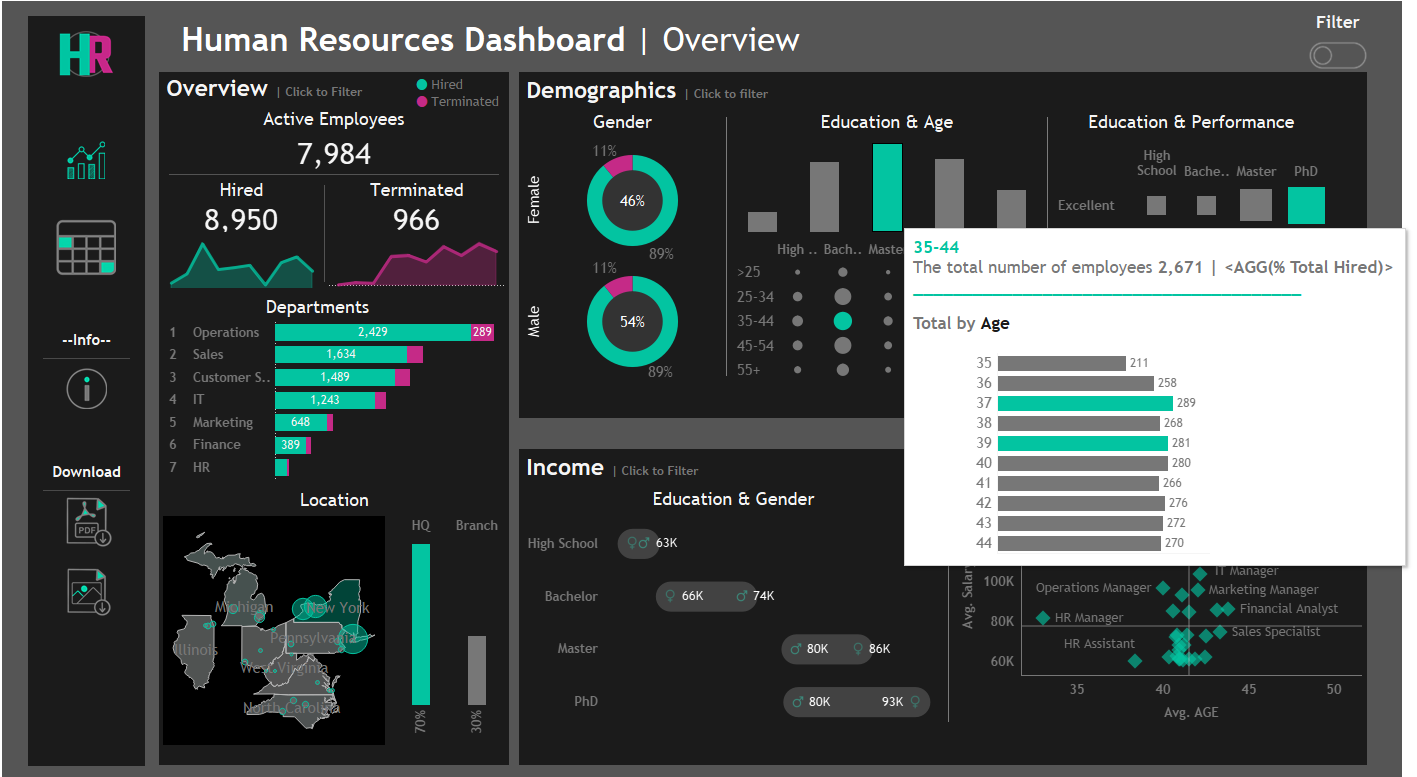

What the dashboard file says about the page in this screenshot:
{"tool":"tableau","page":{"name":"HR | Summary","canvas":[1400,800],"ordinal":1},"visuals":[{"type":"blank","box":[142,0,1257,266]},{"type":"text","box":[1286,6,100,30]},{"type":"text","box":[150,7,677.5,64]},{"type":"blank","box":[827.5,7,537.5,64]},{"type":"filter","title":"Education VS Gender Level","param":"[federated.1b5o2vp1k13vo616yvkzb0z88h2i].[none:Gender:nk]","box":[808,10,124,54]},{"type":"filter","title":"Education VS Gender Level","param":"[federated.1b5o2vp1k13vo616yvkzb0z88h2i].[none:Calculation_1937110847479668753:n","box":[932,10,124,54]},{"type":"filter","title":"Education VS Gender Level","param":"[federated.1b5o2vp1k13vo616yvkzb0z88h2i].[none:Calculation_1937110846422126599:n","box":[1056,10,123,54]},{"type":"filter","title":"Education VS Gender Level","param":"[federated.1b5o2vp1k13vo616yvkzb0z88h2i].[yr:Hiredate:ok]","box":[1179,10,123,54]},{"type":"image","param":"Image/Logo.png","box":[36,25,97,55]},{"type":"dashboard-object","box":[1306,35,59,39]},{"type":"text","box":[157,71,350,32]},{"type":"text","box":[517,71,848,35]},{"type":"text","box":[411,76,89,36]},{"type":"blank","box":[36,80,97,60]},{"type":"text","box":[157,103,350,29]},{"type":"text","box":[517,106,207,29]},{"type":"blank","box":[724,106,1,279]},{"type":"text","box":[725,106,320,29]},{"type":"blank","box":[1045,106,1,279]},{"type":"text","box":[1046,106,287,29]},{"type":"worksheet","title":"Active","mark":"Text","box":[157,132,350,41]},{"type":"worksheet","title":"Gender","mark":"Pie","rows":["Gender"],"cols":["Calculation_1937110846429085710","Calculation_1937110846429085710"],"box":[517,135,207,250]},{"type":"worksheet","title":"Age Group","mark":"Bar","rows":["Calculation_1937110846402056192"],"cols":["Calculation_1937110846440509456"],"box":[725,135,320,100]},{"type":"worksheet","title":"Education VS Performance","mark":"Square","rows":["Performance Rating"],"cols":["Education Level"],"box":[1046,135,287,250]},{"type":"dashboard-object","box":[36,140,97,38]},{"type":"blank","box":[157,173,350,1]},{"type":"text","box":[157,174,165,29]},{"type":"blank","box":[322,174,1,117]},{"type":"text","box":[323,174,184,29]},{"type":"blank","box":[36,178,97,38]},{"type":"worksheet","title":"HIRED","mark":"Text","box":[157,203,165,32]},{"type":"worksheet","title":"Terminated","mark":"Text","box":[323,203,184,32]},{"type":"dashboard-object","box":[36,216,97,60]},{"type":"worksheet","title":"Hired by Years","mark":"Line","rows":["Calculation_1937110846402056192","Calculation_1937110846402056192"],"cols":["Hiredate"],"box":[157,235,165,56]},{"type":"worksheet","title":"Terminated by Years","mark":"Line","rows":["Calculation_1937110846402326529","Calculation_1937110846402326529"],"cols":["Termdate"],"box":[323,235,184,56]},{"type":"worksheet","title":"Age VS Education","mark":"Pie","rows":["Calculation_1937110846440509456"],"cols":["Education Level"],"box":[725,235,233,150]},{"type":"worksheet","title":"Education Level","mark":"Bar","rows":["Calculation_1937110846402056192"],"cols":["Education Level"],"box":[958,235,87,150]},{"type":"text","box":[142,266,1257,267]},{"type":"blank","box":[36,276,97,50]},{"type":"blank","box":[157,291,92,25]},{"type":"text","box":[249,291,133,25]},{"type":"blank","box":[382,291,125,25]},{"type":"worksheet","title":"Departments","mark":"Bar","rows":["Calculation_1937110846415405062","Department"],"cols":["Calculation_1937110846402056192"],"box":[157,316,350,166]},{"type":"text","box":[36,326,97,26]},{"type":"blank","box":[36,352,97,11]},{"type":"dashboard-object","box":[36,363,97,49]},{"type":"blank","box":[36,412,97,46]},{"type":"text","box":[517,448.5,848,35]},{"type":"text","box":[36,458,97,26]},{"type":"text","box":[517,483.5,429.5,29]},{"type":"blank","box":[946.5,483.5,1,248]},{"type":"text","box":[947.5,483.5,417.5,29]},{"type":"blank","box":[36,484,97,11]},{"type":"blank","box":[167,487,112.7,24]},{"type":"text","box":[279.7,487,104.7,24]},{"type":"blank","box":[384.3,487,112.7,24]},{"type":"dashboard-object","box":[36,495,97,51]},{"type":"worksheet","title":"MAP STATE","mark":"Automatic","box":[157,511,230.5,237]},{"type":"worksheet","title":"Location","mark":"Bar","rows":["Calculation_1937110846402056192"],"cols":["Calculation_1937110846422126599","Calculation1"],"box":[387.5,511,119.5,237]},{"type":"worksheet","title":"Education VS Gender Level","mark":"Square","rows":["Education Level"],"cols":["Salary","Salary"],"box":[517,512.5,429.5,219]},{"type":"worksheet","title":"Age VS Salary","mark":"Shape","rows":["Salary"],"cols":["Calculation_1937110846439919631"],"box":[947.5,512.5,417.5,219]},{"type":"blank","box":[142,533,1257,267]},{"type":"blank","box":[36,546,97,20]},{"type":"dashboard-object","box":[36,566,97,49]}]}

Visuals, with their boxes on the page's 1400x800 design canvas (x1, y1, x2, y2). These are canvas units, not pixel positions in the 1417x777 screenshot, which may show the page scaled, cropped or inside an application window:
blank: region(142, 0, 1399, 266)
text: region(1286, 6, 1386, 36)
text: region(150, 7, 828, 71)
blank: region(828, 7, 1365, 71)
"Education VS Gender Level" filter: region(808, 10, 932, 64)
"Education VS Gender Level" filter: region(932, 10, 1056, 64)
"Education VS Gender Level" filter: region(1056, 10, 1179, 64)
"Education VS Gender Level" filter: region(1179, 10, 1302, 64)
image: region(36, 25, 133, 80)
dashboard-object: region(1306, 35, 1365, 74)
text: region(157, 71, 507, 103)
text: region(517, 71, 1365, 106)
text: region(411, 76, 500, 112)
blank: region(36, 80, 133, 140)
text: region(157, 103, 507, 132)
text: region(517, 106, 724, 135)
blank: region(724, 106, 725, 385)
text: region(725, 106, 1045, 135)
blank: region(1045, 106, 1046, 385)
text: region(1046, 106, 1333, 135)
"Active" worksheet (Text marks): region(157, 132, 507, 173)
"Gender" worksheet (Pie marks): region(517, 135, 724, 385)
"Age Group" worksheet (Bar marks): region(725, 135, 1045, 235)
"Education VS Performance" worksheet (Square marks): region(1046, 135, 1333, 385)
dashboard-object: region(36, 140, 133, 178)
blank: region(157, 173, 507, 174)
text: region(157, 174, 322, 203)
blank: region(322, 174, 323, 291)
text: region(323, 174, 507, 203)
blank: region(36, 178, 133, 216)
"HIRED" worksheet (Text marks): region(157, 203, 322, 235)
"Terminated" worksheet (Text marks): region(323, 203, 507, 235)
dashboard-object: region(36, 216, 133, 276)
"Hired by Years" worksheet (Line marks): region(157, 235, 322, 291)
"Terminated by Years" worksheet (Line marks): region(323, 235, 507, 291)
"Age VS Education" worksheet (Pie marks): region(725, 235, 958, 385)
"Education Level" worksheet (Bar marks): region(958, 235, 1045, 385)
text: region(142, 266, 1399, 533)
blank: region(36, 276, 133, 326)
blank: region(157, 291, 249, 316)
text: region(249, 291, 382, 316)
blank: region(382, 291, 507, 316)
"Departments" worksheet (Bar marks): region(157, 316, 507, 482)
text: region(36, 326, 133, 352)
blank: region(36, 352, 133, 363)
dashboard-object: region(36, 363, 133, 412)
blank: region(36, 412, 133, 458)
text: region(517, 448, 1365, 484)
text: region(36, 458, 133, 484)
text: region(517, 484, 946, 512)
blank: region(946, 484, 948, 732)
text: region(948, 484, 1365, 512)
blank: region(36, 484, 133, 495)
blank: region(167, 487, 280, 511)
text: region(280, 487, 384, 511)
blank: region(384, 487, 497, 511)
dashboard-object: region(36, 495, 133, 546)
"MAP STATE" worksheet: region(157, 511, 388, 748)
"Location" worksheet (Bar marks): region(388, 511, 507, 748)
"Education VS Gender Level" worksheet (Square marks): region(517, 512, 946, 732)
"Age VS Salary" worksheet (Shape marks): region(948, 512, 1365, 732)
blank: region(142, 533, 1399, 800)
blank: region(36, 546, 133, 566)
dashboard-object: region(36, 566, 133, 615)
